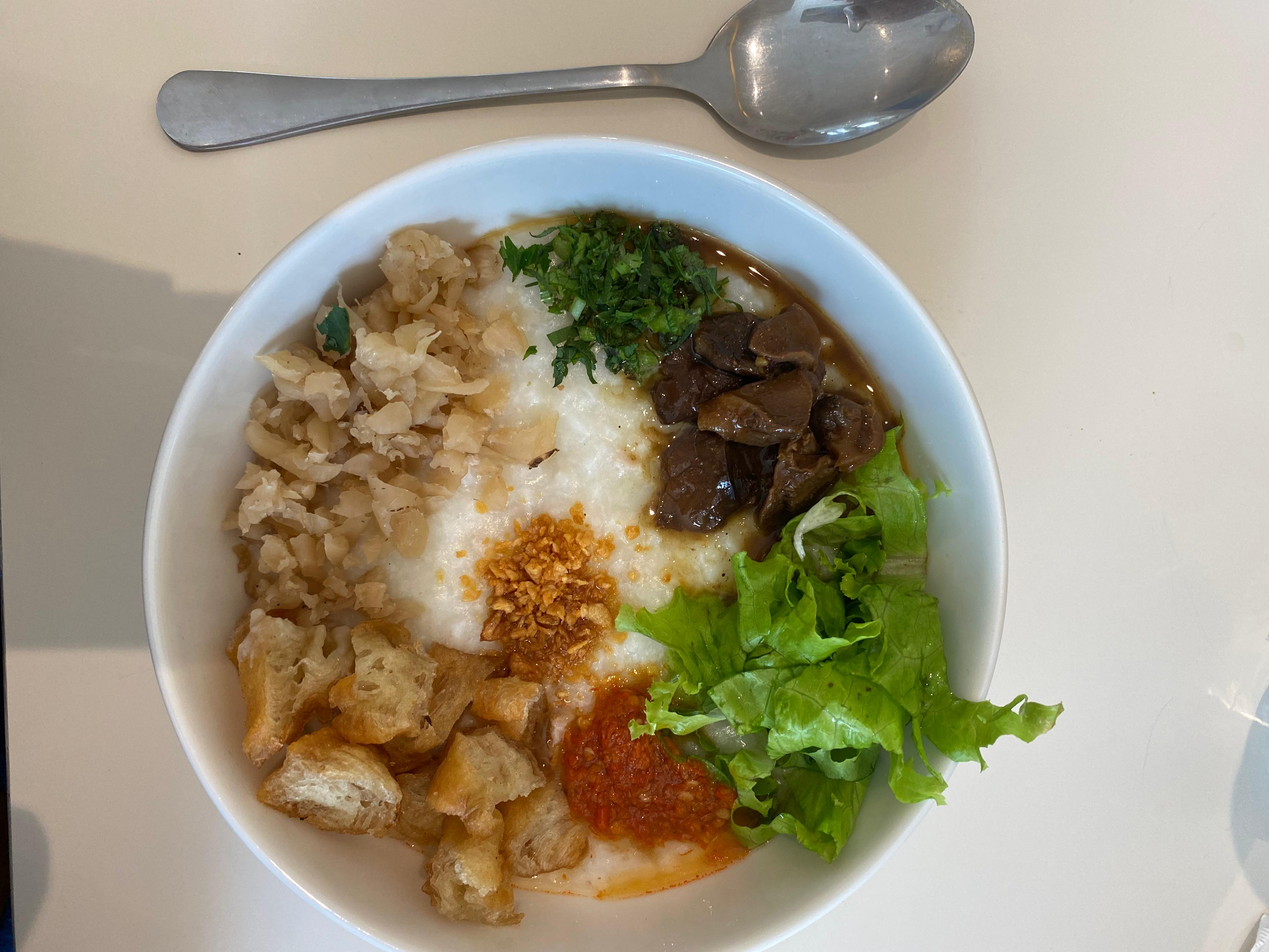buah_sayur_lainnya: (747, 502, 971, 817)
makanan_berpati: (493, 366, 654, 602)
